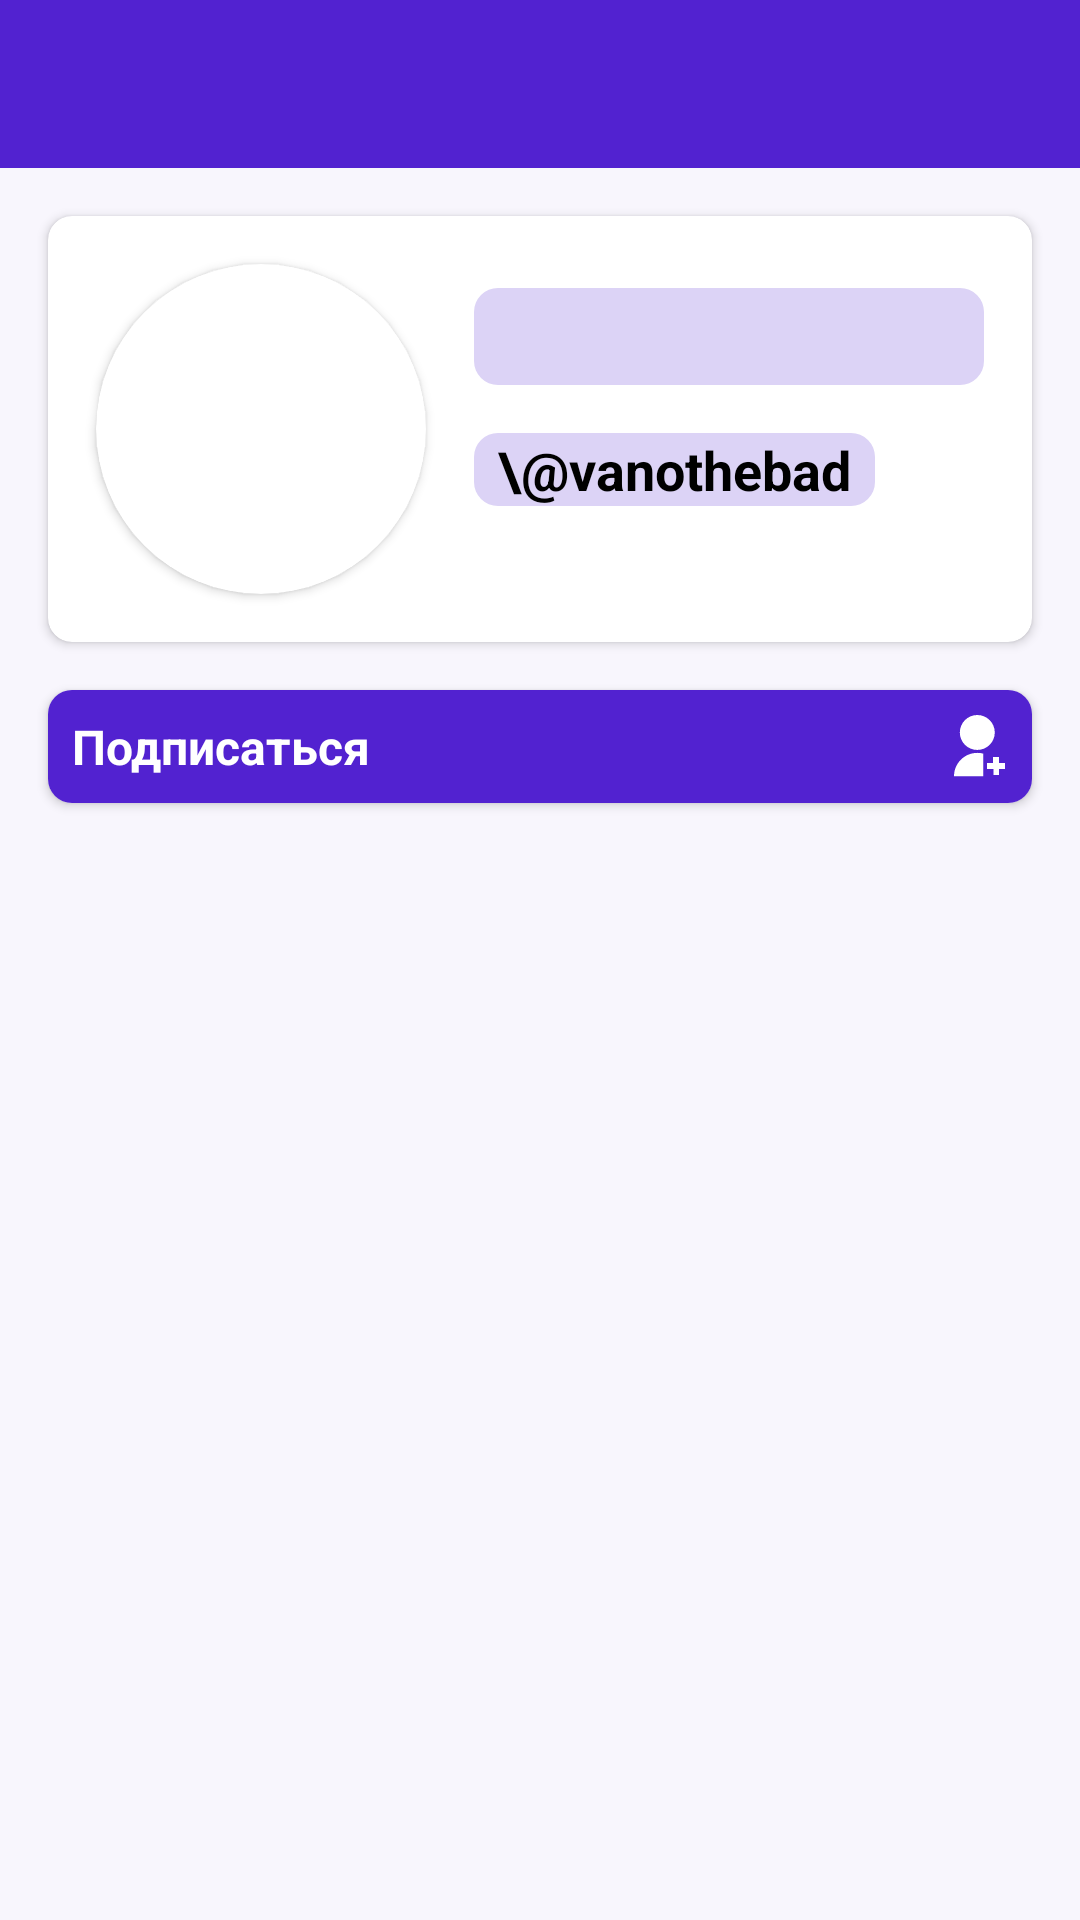

Screen size 1080 × 1920. Icon name, then its box in pixels as [left=x1, top=y1, right=x2, bottom=y2]:
add person: [left=954, top=715, right=1005, bottom=777]
